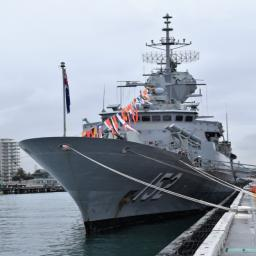Fragata: (15, 6, 239, 238)
